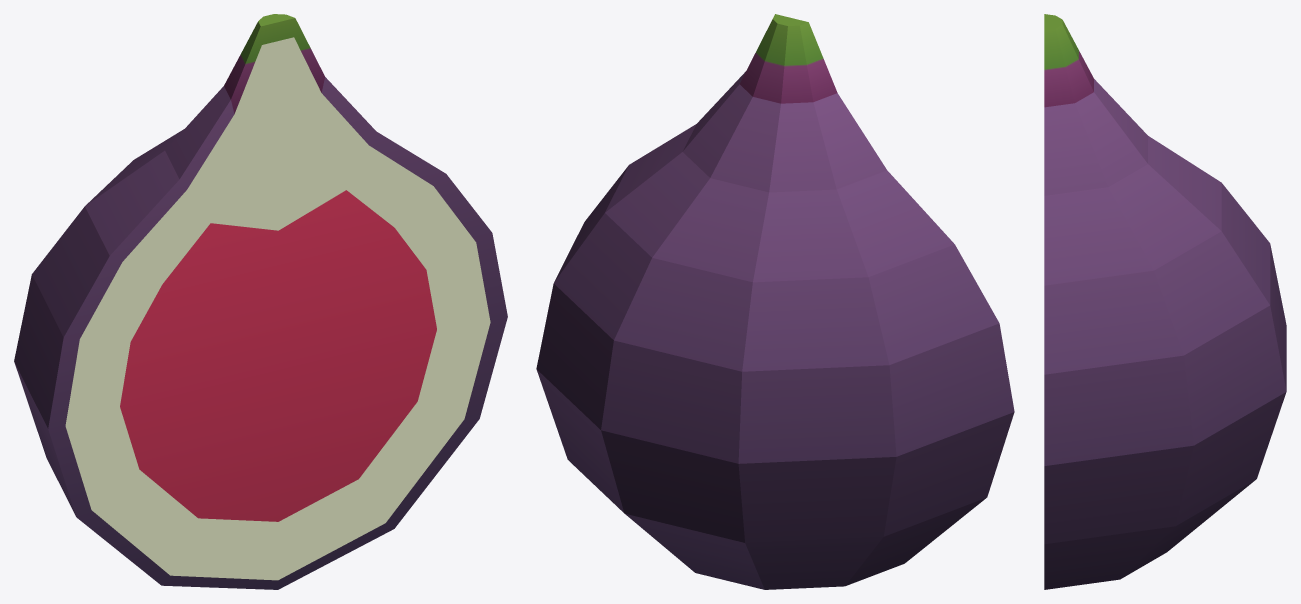
File: Fig Half.fbx
3 renders of one model, left to right at view 1: azimuth 30°, elevation 25°; view 2: azimuth 150°, elevation 25°; view 3: azimuth 270°, elevation 25°, orthographic. The views are drawn at different scales.
Visible parts, largest first — view 1: Fig Half; view 2: Fig Half; view 3: Fig Half.
Part boxes in pixels (x1=…): Fig Half: x1=14, y1=14, x2=507, y2=589; Fig Half: x1=536, y1=14, x2=1014, y2=589; Fig Half: x1=1044, y1=14, x2=1286, y2=589.
Size of the model in its own units: 9.4 by 11.09 by 4.49.
